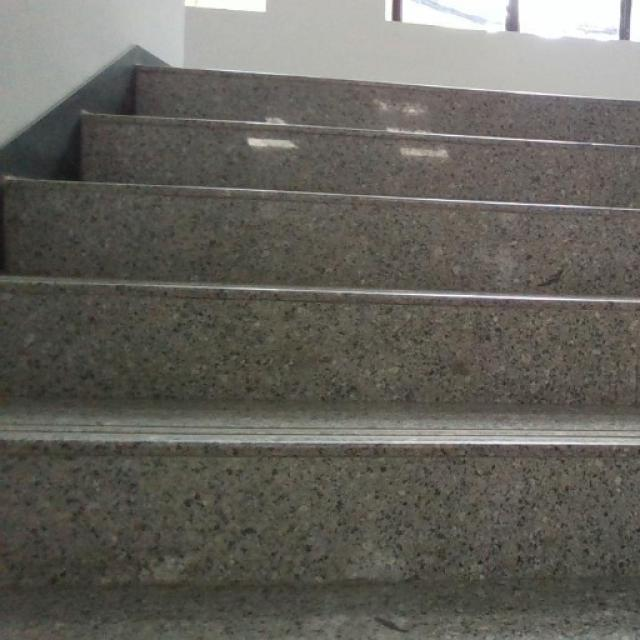Stairs: (0, 43, 639, 636)
